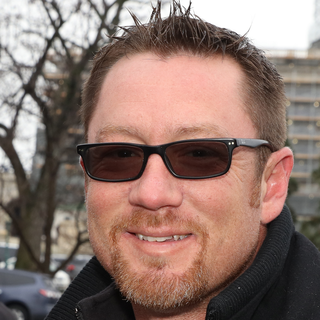eye: (173, 145, 219, 164), (99, 145, 140, 164)
